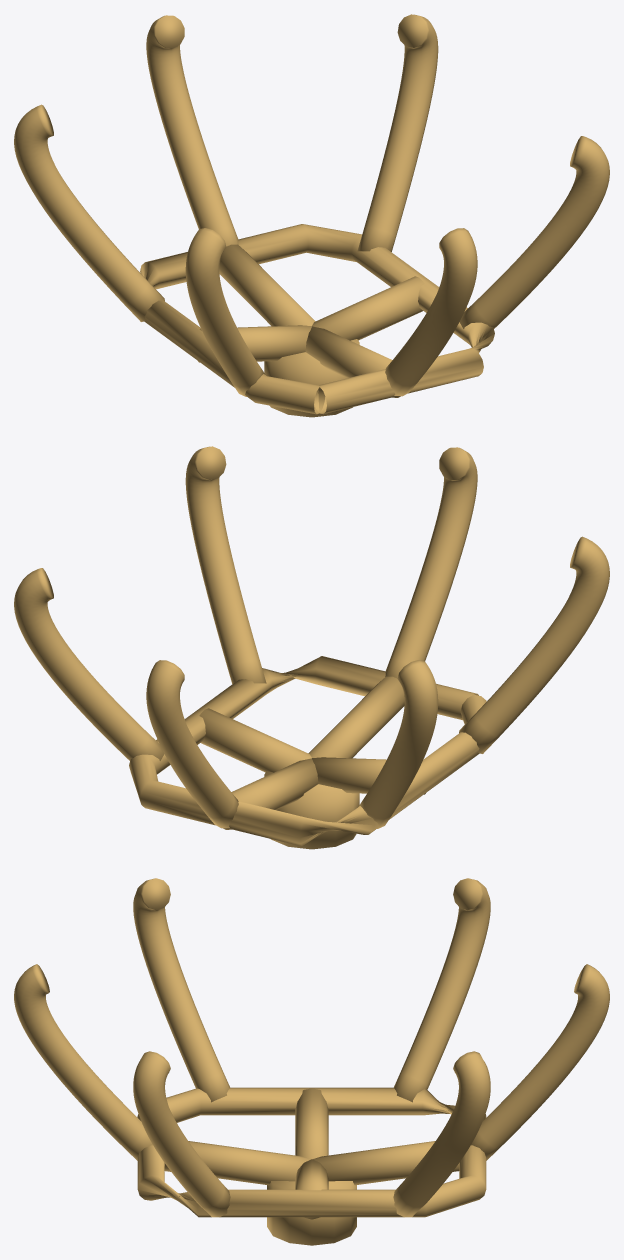
Rendered from demo-emerald-6-prong.glb.
The picture shows the model from 3 angles, top to bottom: view 1: azimuth 30°, elevation 25°; view 2: azimuth 150°, elevation 25°; view 3: azimuth 270°, elevation 25°; orthographic projection. The views are drawn at different scales.
Parts seen in each view (by area): view 1: Metal.114, Metal.115, Metal.117, Metal.116, Metal.120, Metal.119, Metal.118, Metal.112, Metal.110, Metal.113, Metal.111, Metal.109; view 2: Metal.114, Metal.120, Metal.118, Metal.119, Metal.115, Metal.116, Metal.117, Metal.113, Metal.110, Metal.109, Metal.112, Metal.111; view 3: Metal.114, Metal.117, Metal.118, Metal.116, Metal.119, Metal.120, Metal.115, Metal.112, Metal.113, Metal.109, Metal.111, Metal.110.
Boxes of the visible parts, left/top/right/bottom form: Metal.114: left=140, top=224, right=494, bottom=414; Metal.115: left=357, top=14, right=438, bottom=251; Metal.117: left=14, top=104, right=164, bottom=321; Metal.116: left=146, top=15, right=238, bottom=246; Metal.120: left=459, top=136, right=609, bottom=328; Metal.119: left=385, top=228, right=477, bottom=396; Metal.118: left=185, top=228, right=265, bottom=396; Metal.112: left=219, top=244, right=315, bottom=326; Metal.110: left=312, top=276, right=424, bottom=340; Metal.113: left=305, top=326, right=400, bottom=397; Metal.111: left=198, top=325, right=311, bottom=362; Metal.109: left=264, top=339, right=359, bottom=417; Metal.114: left=129, top=656, right=486, bottom=846; Metal.120: left=185, top=446, right=266, bottom=683; Metal.118: left=459, top=536, right=609, bottom=753; Metal.119: left=385, top=447, right=477, bottom=678; Metal.115: left=14, top=568, right=164, bottom=760; Metal.116: left=146, top=660, right=238, bottom=828; Metal.117: left=358, top=660, right=438, bottom=828; Metal.113: left=308, top=676, right=404, bottom=758; Metal.110: left=199, top=708, right=311, bottom=772; Metal.109: left=264, top=771, right=359, bottom=849; Metal.112: left=223, top=758, right=318, bottom=829; Metal.111: left=312, top=757, right=425, bottom=794; Metal.114: left=137, top=1087, right=486, bottom=1217; Metal.117: left=394, top=878, right=490, bottom=1102; Metal.118: left=133, top=878, right=229, bottom=1102; Metal.116: left=471, top=964, right=609, bottom=1160; Metal.119: left=14, top=964, right=152, bottom=1160; Metal.120: left=133, top=1051, right=230, bottom=1217; Metal.115: left=393, top=1051, right=490, bottom=1217; Metal.112: left=313, top=1141, right=459, bottom=1185; Metal.113: left=164, top=1141, right=310, bottom=1185; Metal.109: left=267, top=1181, right=356, bottom=1245; Metal.111: left=295, top=1088, right=328, bottom=1159; Metal.110: left=295, top=1159, right=328, bottom=1219.
Bounding box in the file's own units: 6.63 × 4.16 × 8.6.
